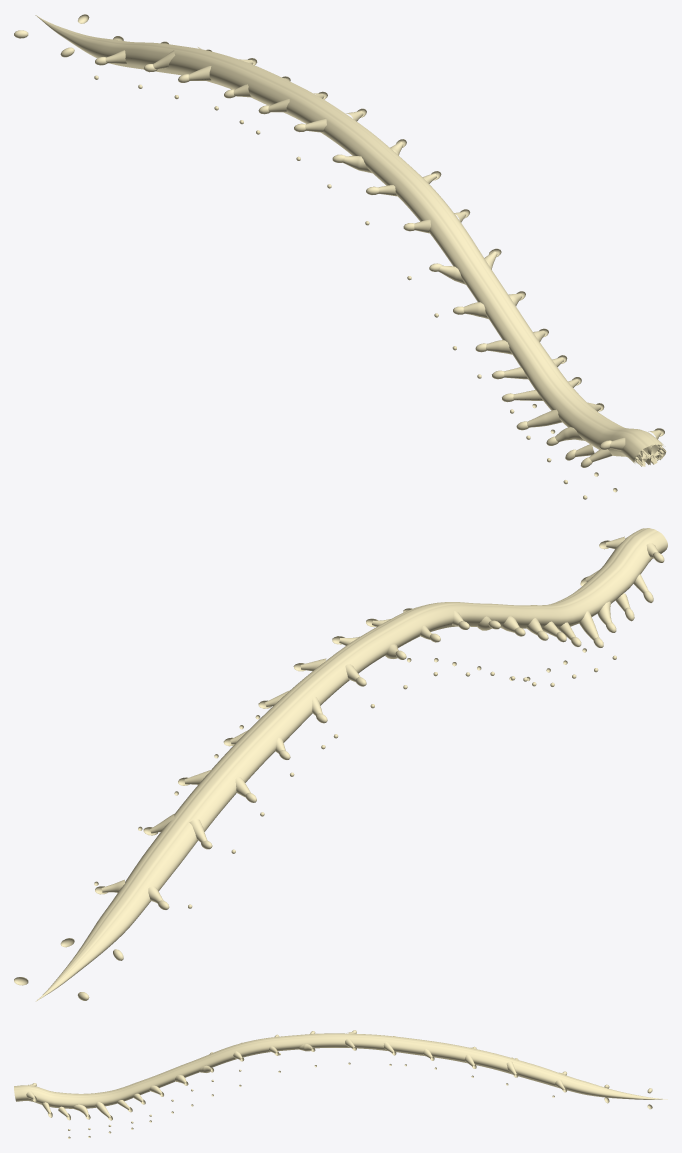
The model's file is back__nervous.e839cb16cb.glb.
The picture shows the model from 3 angles, top to bottom: view 1: azimuth 30°, elevation 25°; view 2: azimuth 150°, elevation 25°; view 3: azimuth 270°, elevation 25°; orthographic projection. The views are drawn at different scales.
Visible parts, largest first — view 1: Spinal dura, Spinal ganglion.r, Spinal ganglion.l; view 2: Spinal dura, Spinal ganglion.r, Spinal ganglion.l; view 3: Spinal dura, Spinal ganglion.l.
Boxes of the visible parts, x1,y1,x2,y2 form: Spinal dura: (35, 15, 665, 463); Spinal ganglion.r: (14, 30, 611, 467); Spinal ganglion.l: (78, 14, 664, 436); Spinal dura: (36, 528, 667, 1001); Spinal ganglion.r: (77, 552, 664, 1000); Spinal ganglion.l: (14, 540, 609, 985); Spinal dura: (14, 1031, 665, 1118); Spinal ganglion.l: (32, 1045, 652, 1120).
Size of the model in its own units: 43.32 by 80.36 by 475.
